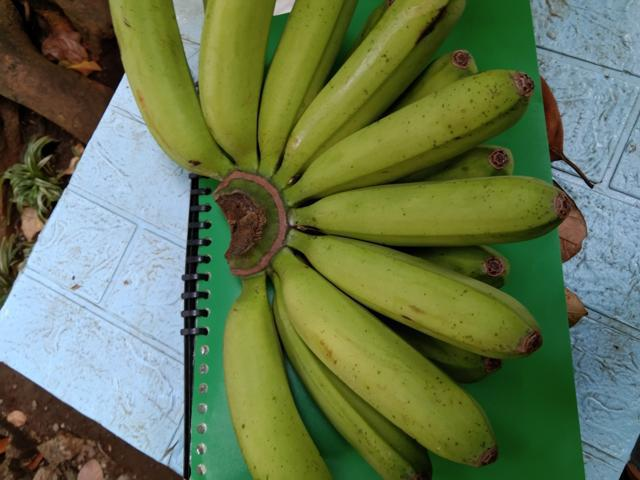freshunripe: (278, 262, 504, 471), (291, 65, 537, 205), (298, 227, 545, 364), (215, 282, 337, 479), (99, 0, 225, 181), (296, 169, 575, 248), (253, 0, 355, 185), (192, 0, 282, 164)
unripe: (275, 0, 473, 195)
